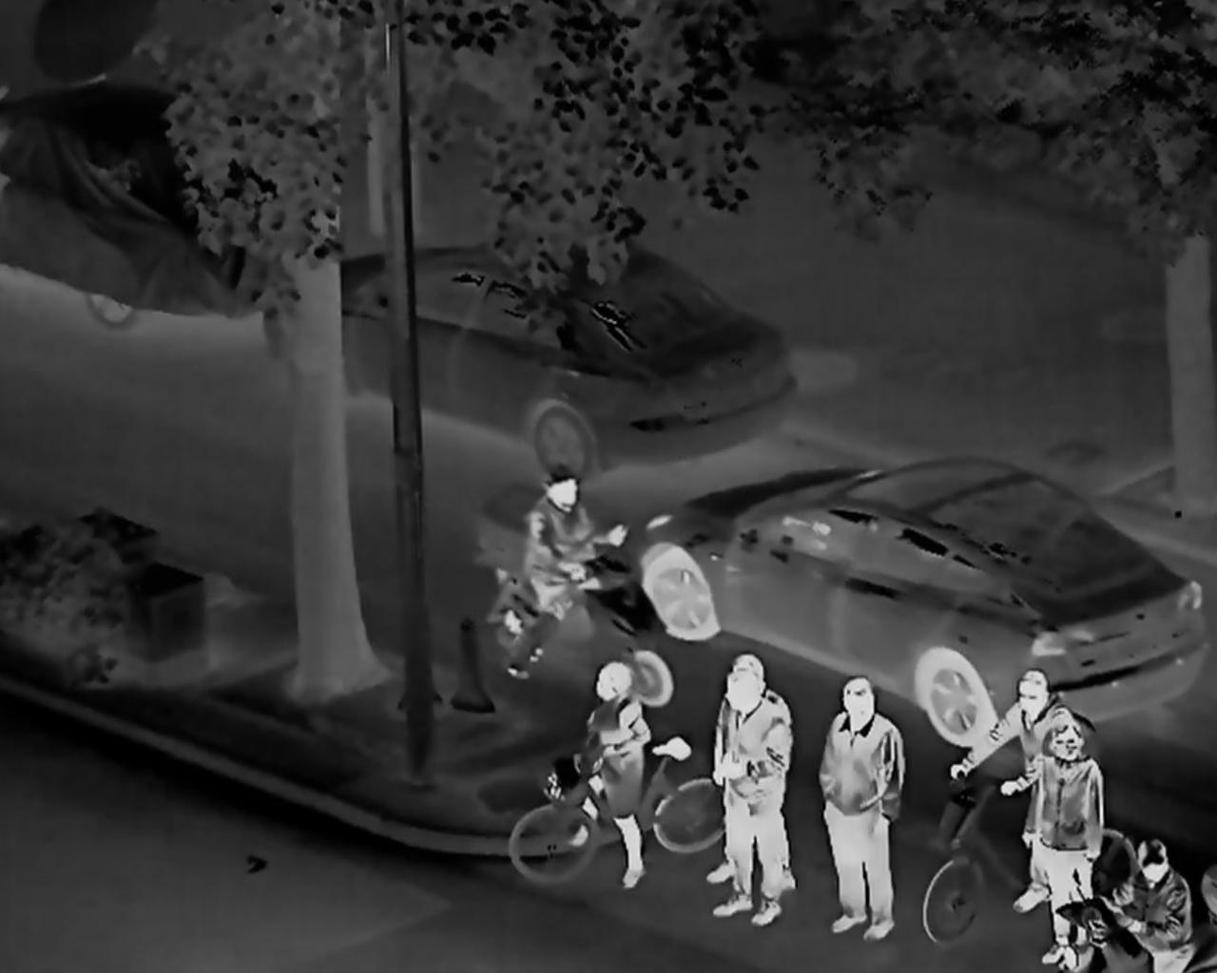person: (945, 670, 1077, 916), (819, 674, 905, 942), (516, 468, 626, 677), (706, 648, 799, 890), (564, 663, 654, 890), (713, 675, 783, 929), (1033, 720, 1101, 965), (1106, 832, 1192, 973)
